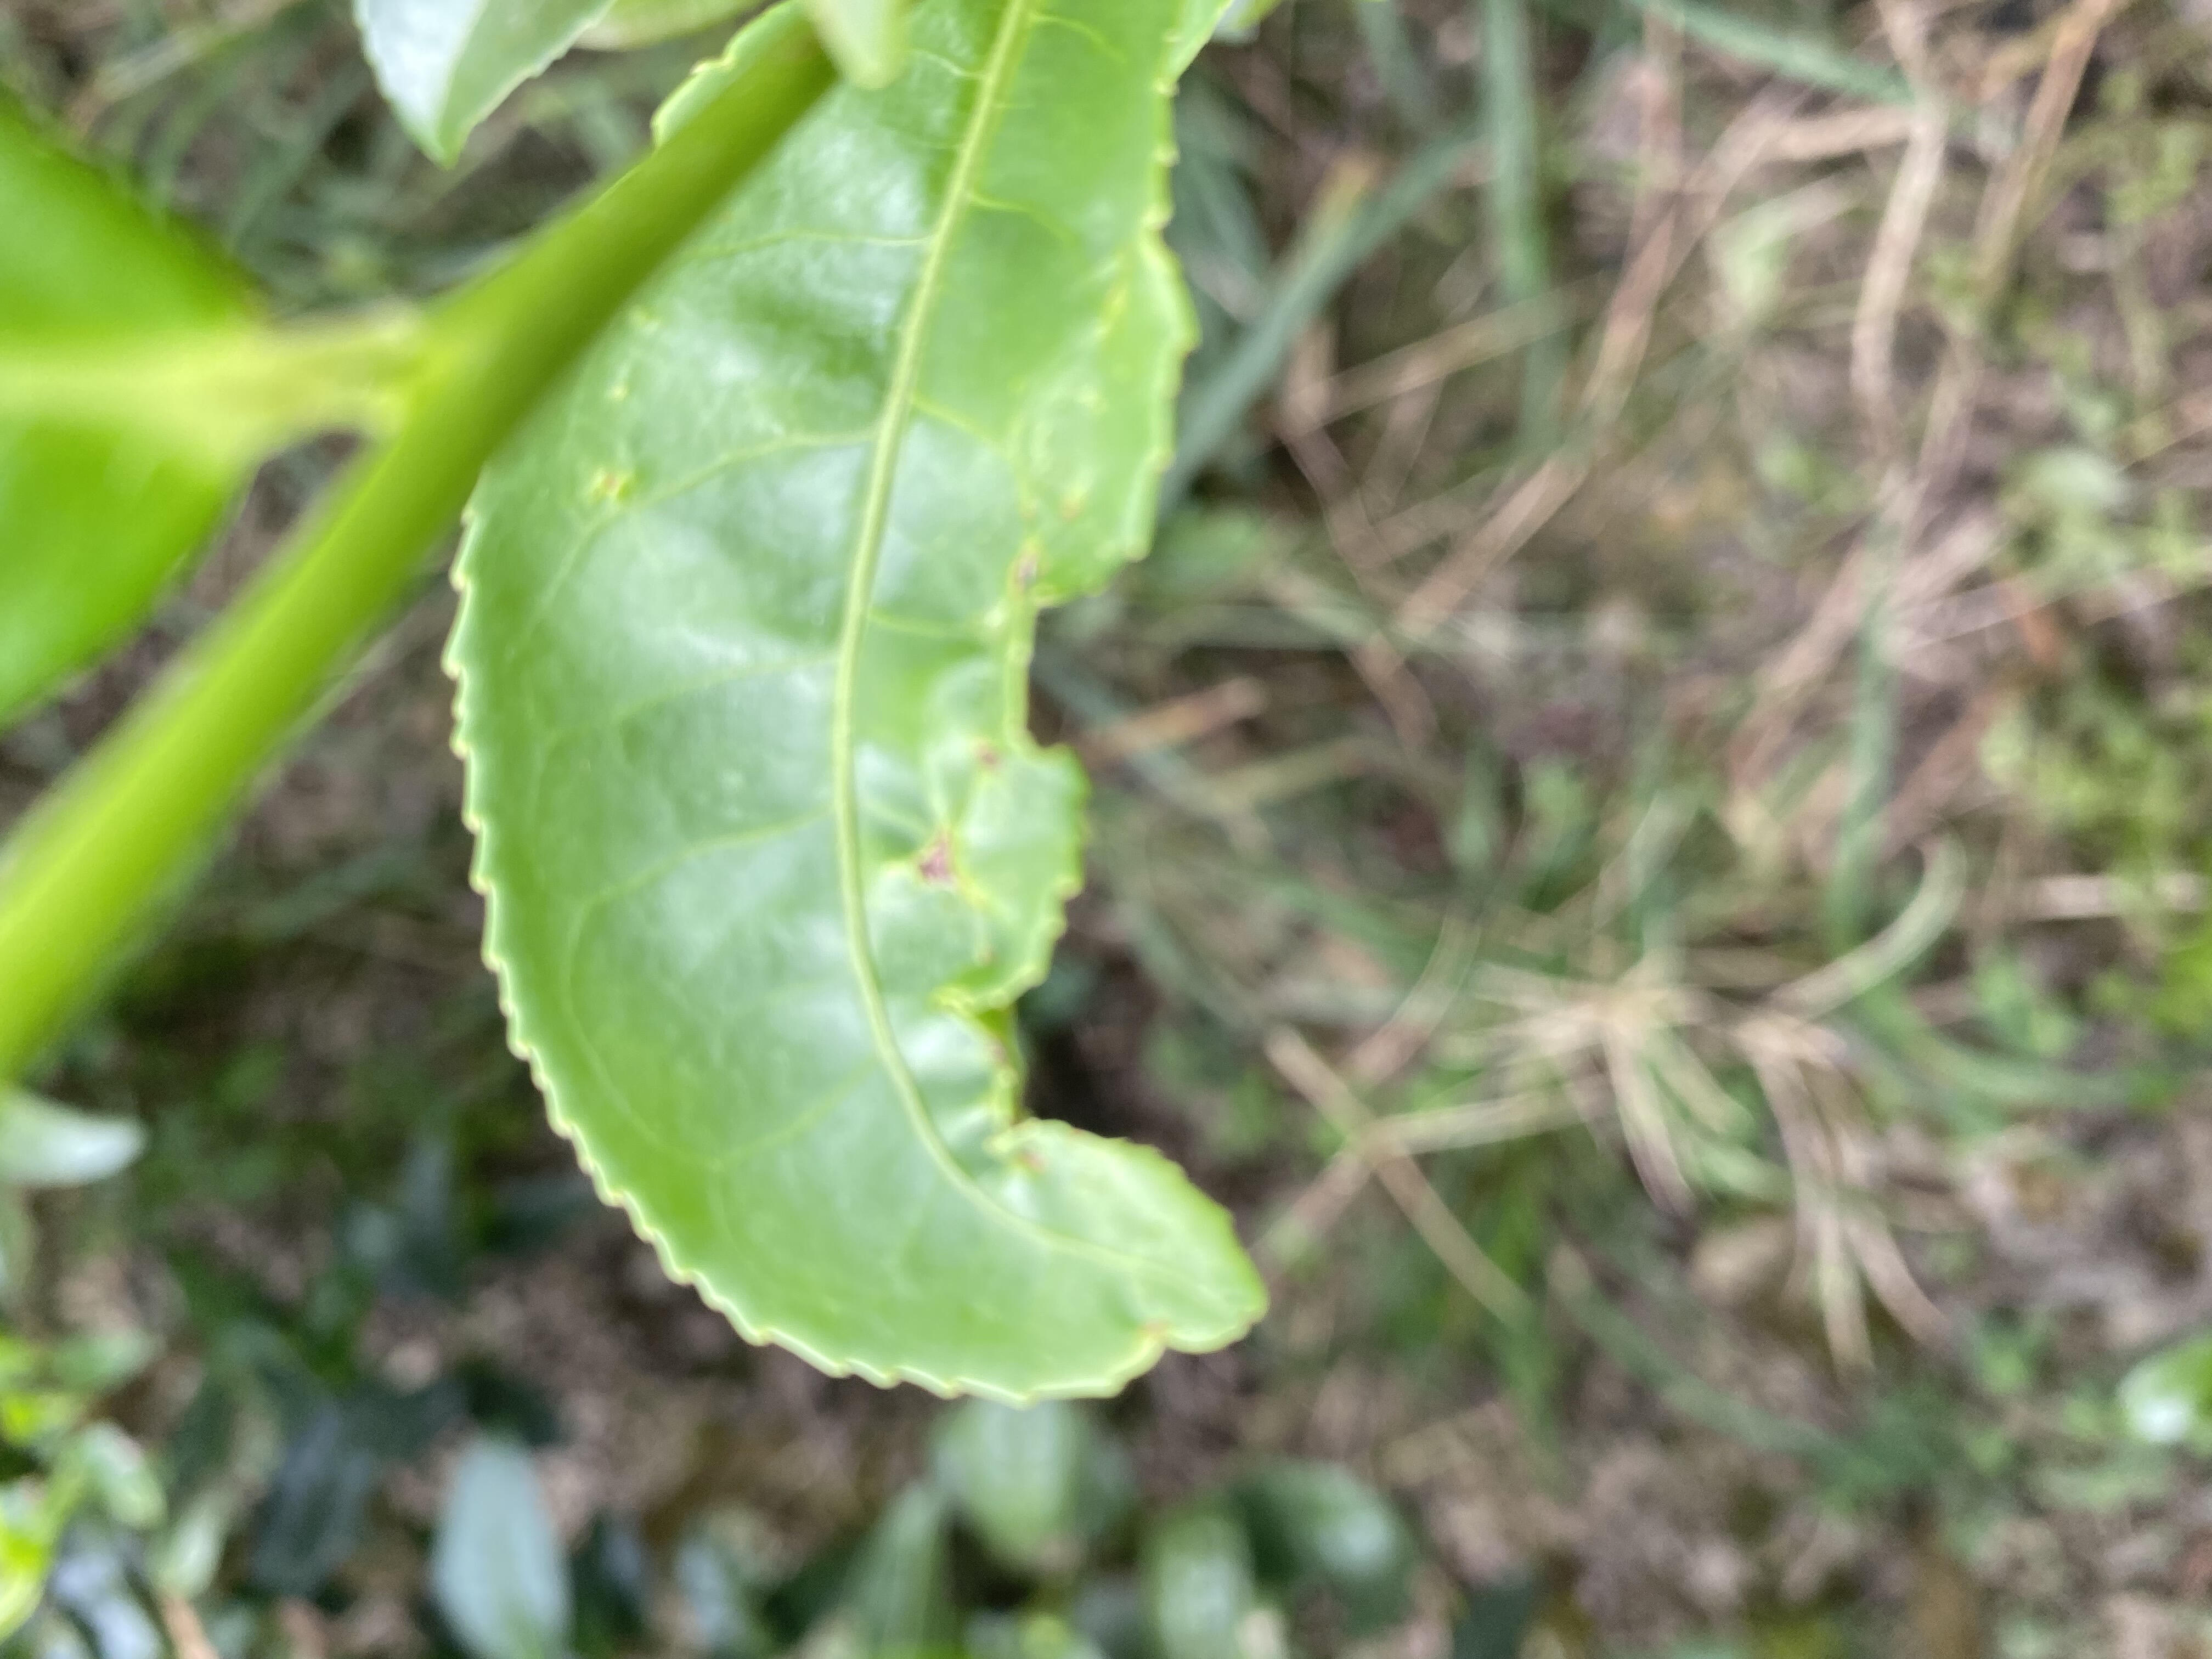chihuo_high: (444, 3, 1270, 1408)
